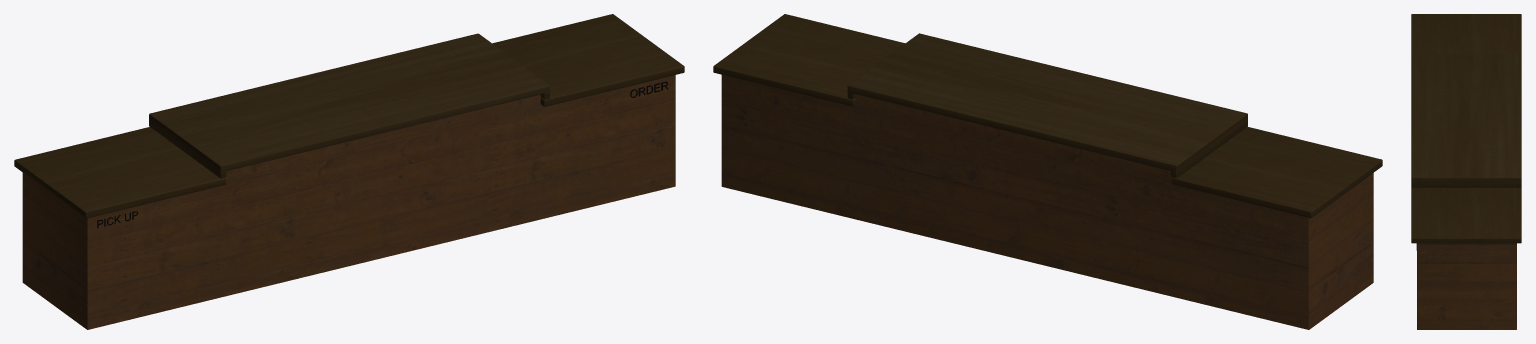
The model's file is LC_3013_Cafecounter_LOD3.FBX.
3 views of the same model, side by side, from view 1: azimuth 30°, elevation 25°; view 2: azimuth 150°, elevation 25°; view 3: azimuth 270°, elevation 25° (orthographic). The views are drawn at different scales.
Parts seen in each view (by area): view 1: LC_3013_Cafecounter_LOD3; view 2: LC_3013_Cafecounter_LOD3; view 3: LC_3013_Cafecounter_LOD3.
Boxes of the visible parts, box(x1,y1,x2,y2) form: LC_3013_Cafecounter_LOD3: box(14, 14, 684, 329); LC_3013_Cafecounter_LOD3: box(713, 14, 1382, 329); LC_3013_Cafecounter_LOD3: box(1411, 14, 1521, 329).
Bounding box in the file's own units: 458 × 98.79 × 95.
Materials: 1 (1 with a texture image).
